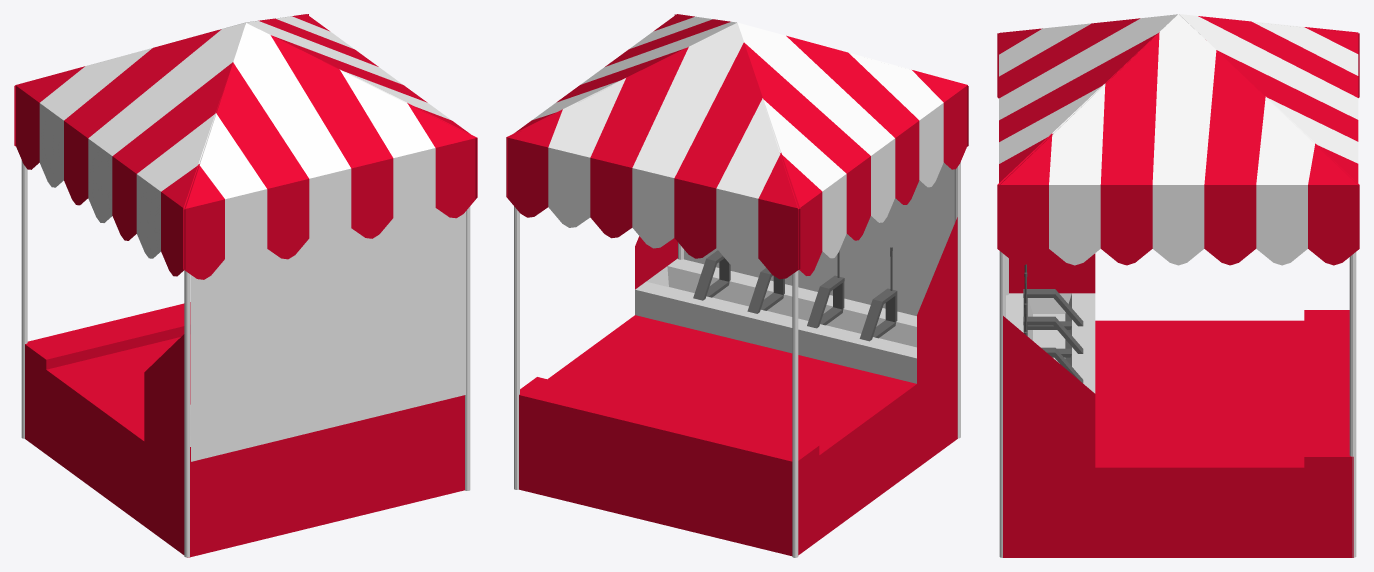
File: SM_Minigame.fbx
The picture shows the model from 3 angles, left to right: view 1: azimuth 30°, elevation 25°; view 2: azimuth 150°, elevation 25°; view 3: azimuth 270°, elevation 25°; orthographic projection. The views are drawn at different scales.
Visible parts, largest first — view 1: SM_Minigame; view 2: SM_Minigame; view 3: SM_Minigame.
Part boxes in pixels (x1,y1,x2,y2): SM_Minigame: [14, 14, 477, 557]; SM_Minigame: [506, 14, 968, 557]; SM_Minigame: [997, 14, 1359, 557].
Size of the model in its own units: 210 by 301 by 210.
